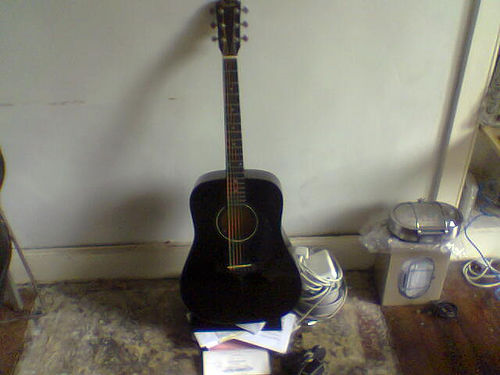guitar: (179, 1, 303, 326)
